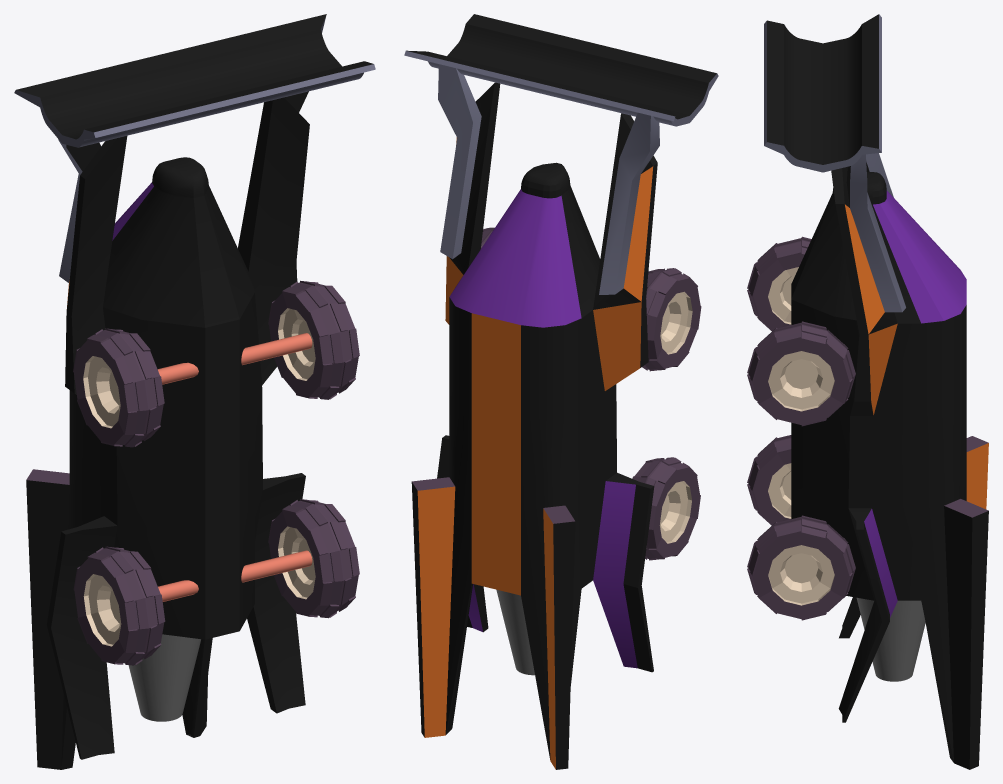
The model's file is Bot.fbx.
3 views of the same model, side by side, from view 1: azimuth 30°, elevation 25°; view 2: azimuth 150°, elevation 25°; view 3: azimuth 270°, elevation 25° (orthographic). The views are drawn at different scales.
Parts seen in each view (by area): view 1: Cube, Wheel, Wheel.003, Wheel.002, Wheel.001; view 2: Cube, Wheel.003, Wheel; view 3: Cube, Wheel.002, Wheel.001, Wheel.003, Wheel.
Boxes of the visible parts, x1,y1,x2,y2 form: Cube: [14, 14, 375, 769]; Wheel: [73, 546, 165, 665]; Wheel.003: [73, 328, 164, 447]; Wheel.002: [268, 280, 359, 399]; Wheel.001: [268, 499, 359, 618]; Cube: [404, 14, 718, 769]; Wheel.003: [642, 268, 701, 371]; Wheel: [632, 457, 700, 560]; Cube: [764, 14, 988, 769]; Wheel.002: [747, 321, 855, 426]; Wheel.001: [747, 515, 855, 620]; Wheel.003: [747, 236, 811, 330]; Wheel: [747, 435, 791, 525].
Bounding box in the file's own units: 709 × 1596 × 537.
